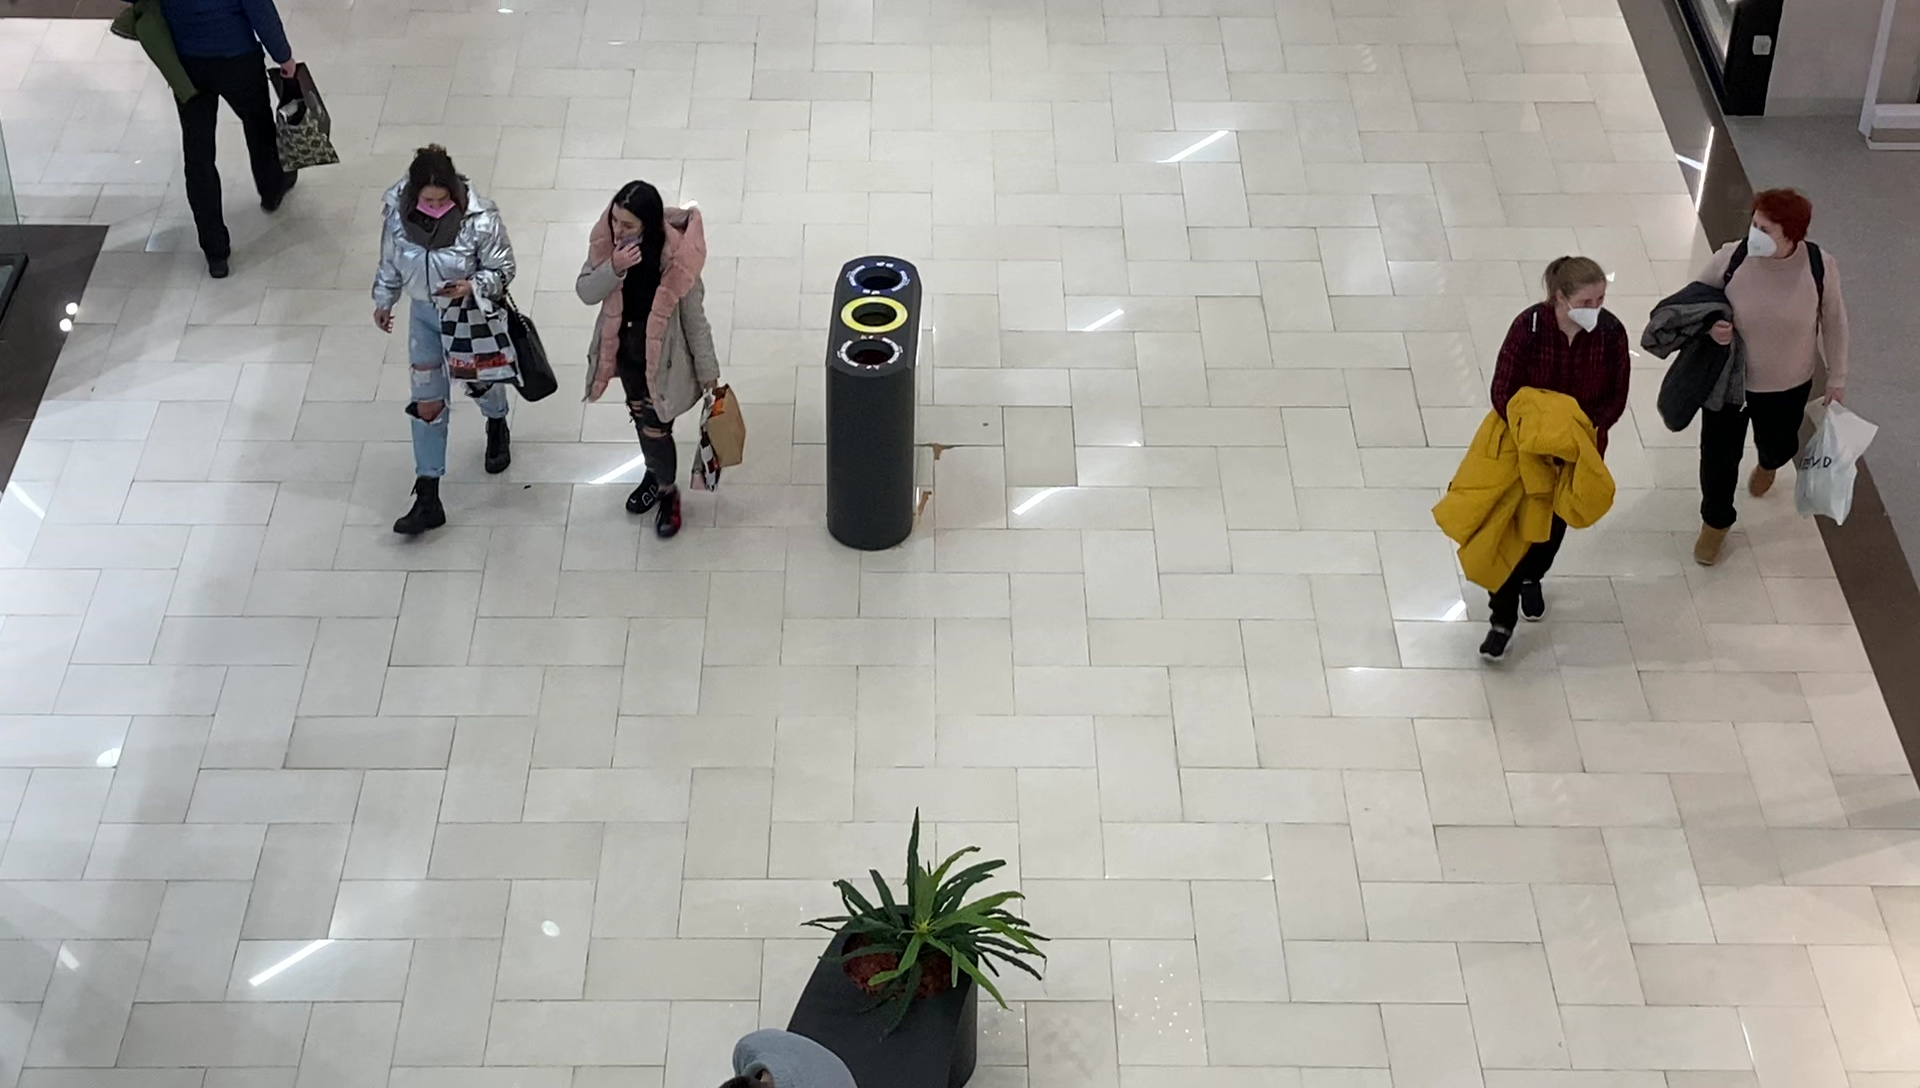person: (1691, 188, 1853, 572), (371, 145, 522, 541), (1490, 255, 1633, 664), (574, 179, 719, 545), (150, 1, 295, 277)
